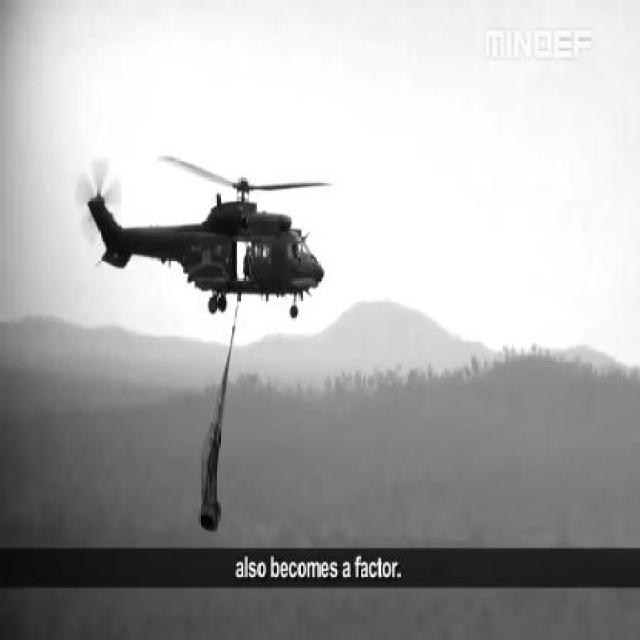Helicopter: (75, 153, 333, 320)
